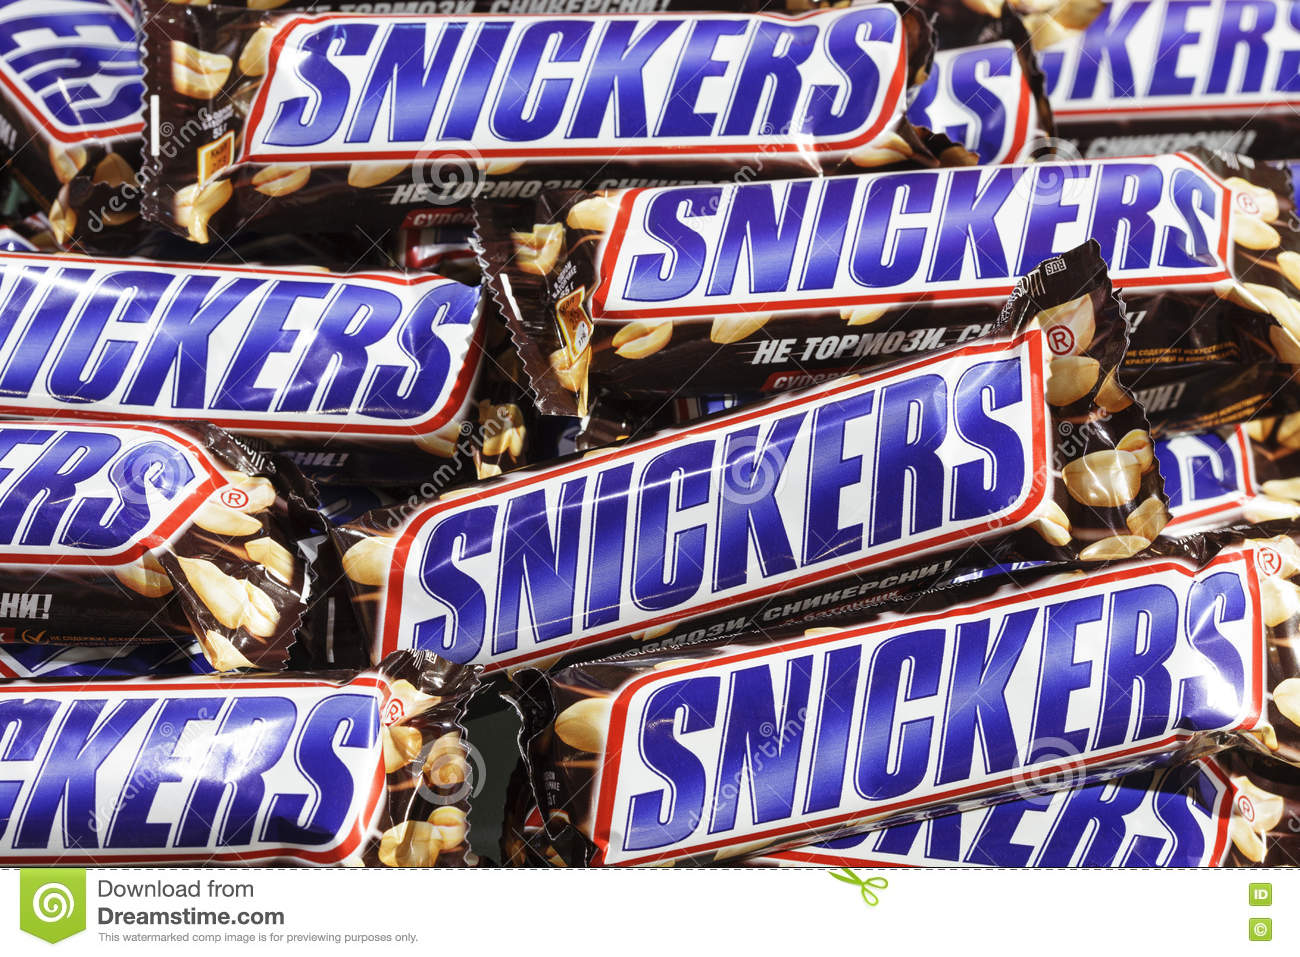snickers: (409, 355, 1023, 666), (619, 560, 1245, 857), (249, 2, 899, 148), (263, 2, 899, 148), (613, 156, 1216, 295), (0, 259, 485, 420), (0, 275, 485, 420), (0, 690, 380, 849), (797, 759, 1216, 866), (797, 759, 1216, 848), (0, 419, 204, 565), (1037, 0, 1298, 93), (0, 0, 157, 119)
